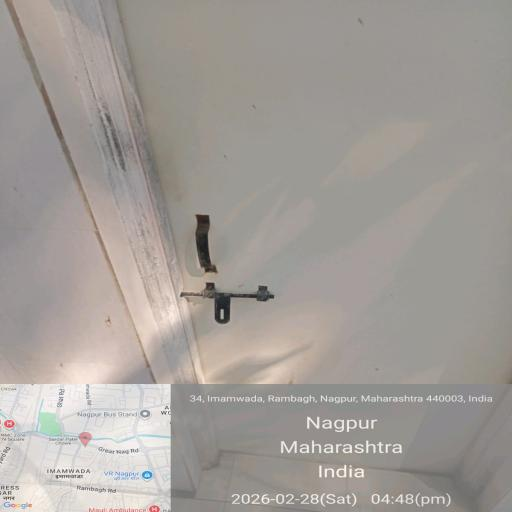clean_floor: (59, 70, 464, 512)
